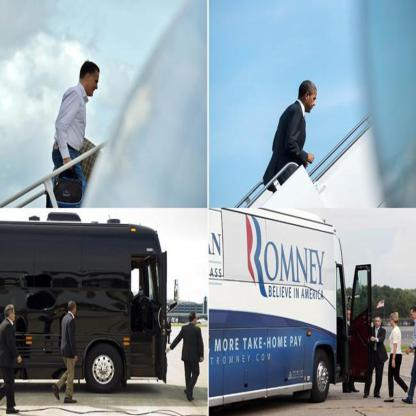face: (87, 71, 100, 98), (306, 89, 318, 114), (10, 310, 16, 321), (411, 312, 416, 322), (347, 312, 353, 320), (375, 320, 381, 328), (73, 306, 77, 315), (194, 316, 198, 325), (391, 319, 395, 327)
